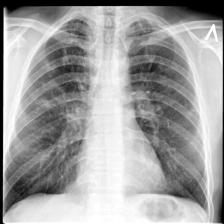tuberculosis: (3, 10, 214, 221)
